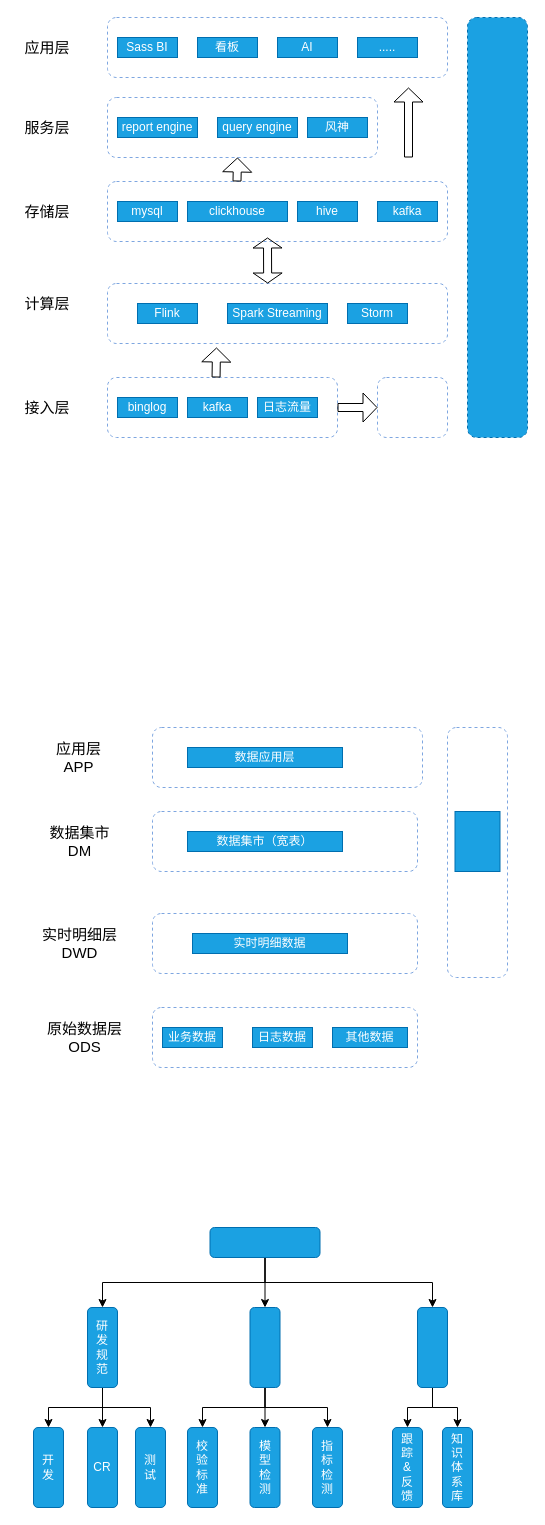
Some shapes in this 545 by 1525 pixel diagram are drawn without their labels. The shapes that lost their labels are listed below. From the top down, each one's box as (x1, y1, x2, y2) in pixels, then its label:
(466, 16, 528, 438): 稳 定 性 保 障
(376, 376, 448, 438): 离线ETL
(454, 810, 500, 872): 维度 DIM
(209, 1226, 320, 1258): 数据质量体系
(249, 1306, 280, 1388): 技 术 检 测
(416, 1306, 448, 1388): 反 馈 & 总 结
